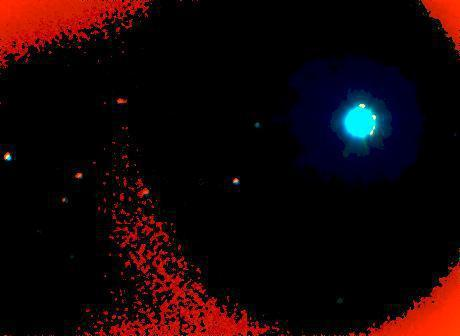star: (347, 89, 377, 119)
